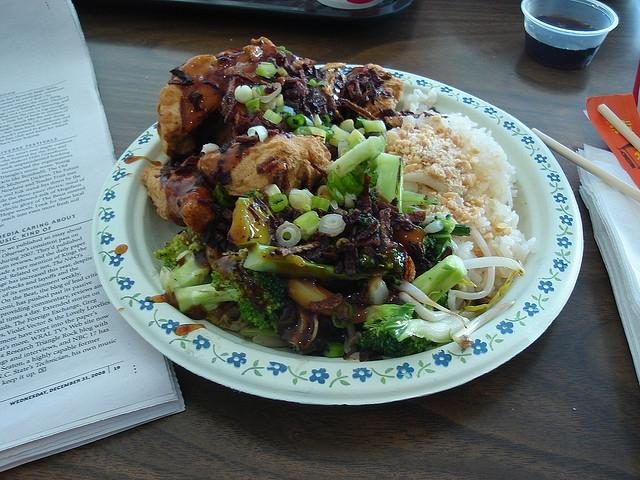broccoli: (174, 248, 288, 332), (244, 244, 406, 286), (153, 226, 211, 298), (366, 152, 404, 213)
